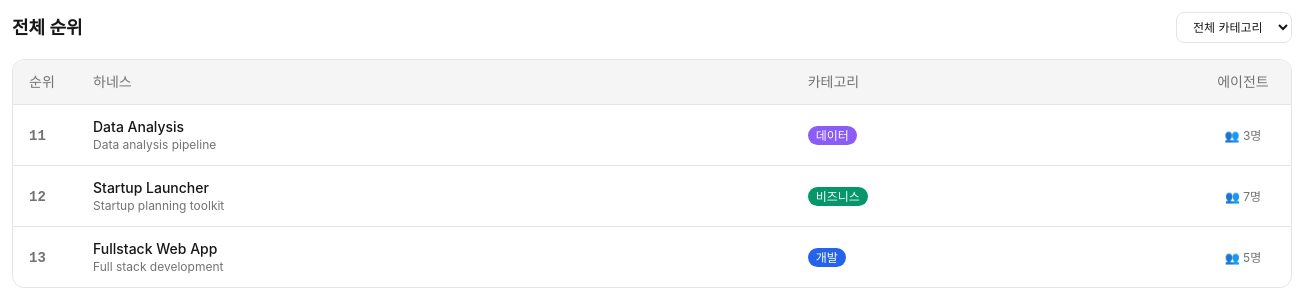
Scenario: RankingTable › shows 'no results' message when filter matches nothing
# select a category with no items
Select "교육" in the dropdown at (1234, 28), box [1176,12,1292,43]
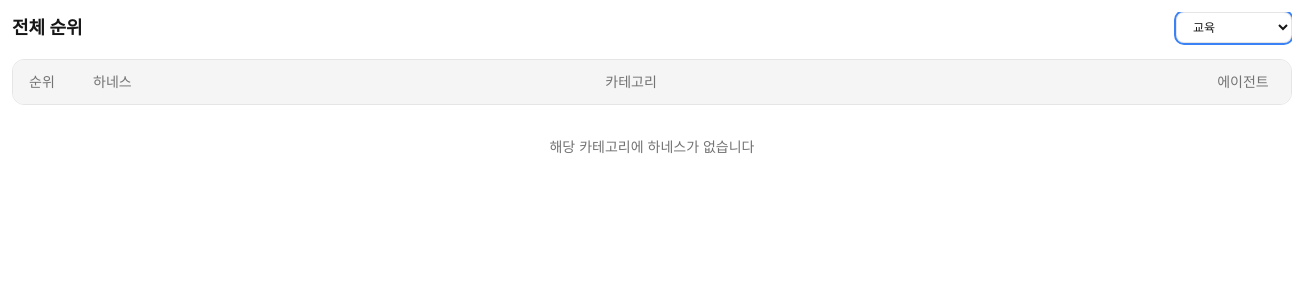
Result: the text "해당 카테고리에 하네스가 없습니다" is shown at [550,138,754,155]
